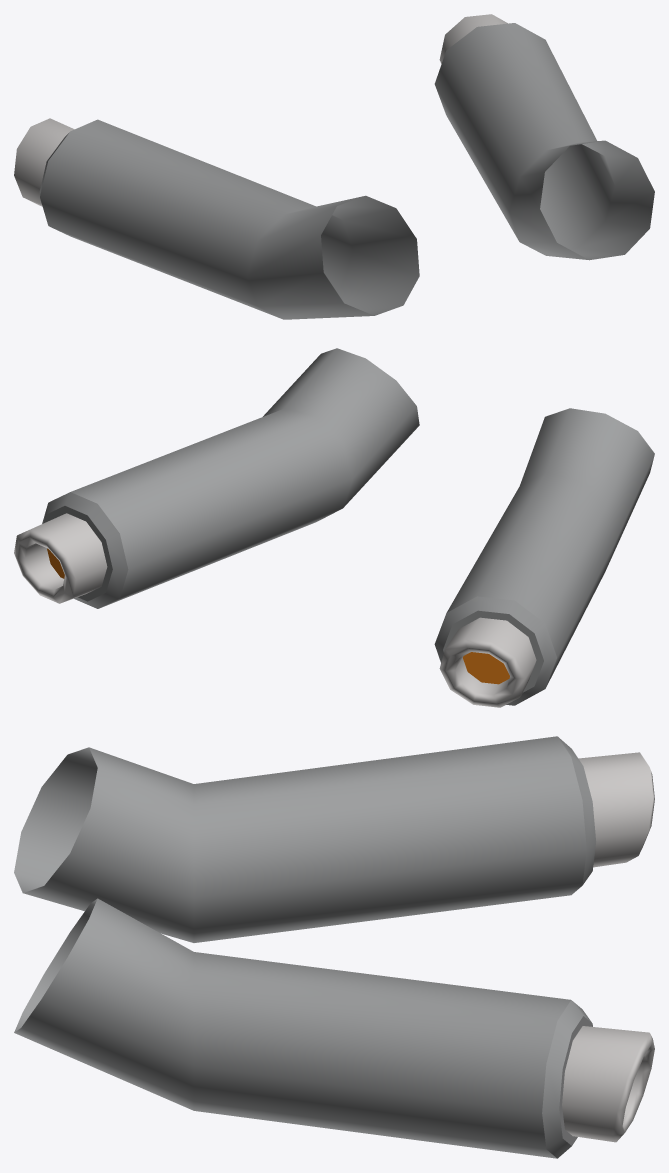
File: Car_01_Pipe_Cool.fbx
3 renders of one model, top to bottom at view 1: azimuth 30°, elevation 25°; view 2: azimuth 150°, elevation 25°; view 3: azimuth 270°, elevation 25°, orthographic. The views are drawn at different scales.
Parts seen in each view (by area): view 1: Car_01_Pipe_Cool; view 2: Car_01_Pipe_Cool; view 3: Car_01_Pipe_Cool.
Part boxes in pixels (x1,y1,x2,y2): Car_01_Pipe_Cool: (14,14,654,319); Car_01_Pipe_Cool: (14,348,654,707); Car_01_Pipe_Cool: (14,736,654,1158).
Bounding box in the file's own units: 119 × 97.23 × 30.72.
